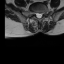CCS_normal: (38, 10, 40, 20)
LFS_stenosis: (42, 9, 44, 16)
LLS_normal: (40, 10, 42, 19)
RFS_stenosis: (33, 9, 35, 15)
RLS_normal: (35, 10, 38, 19)
